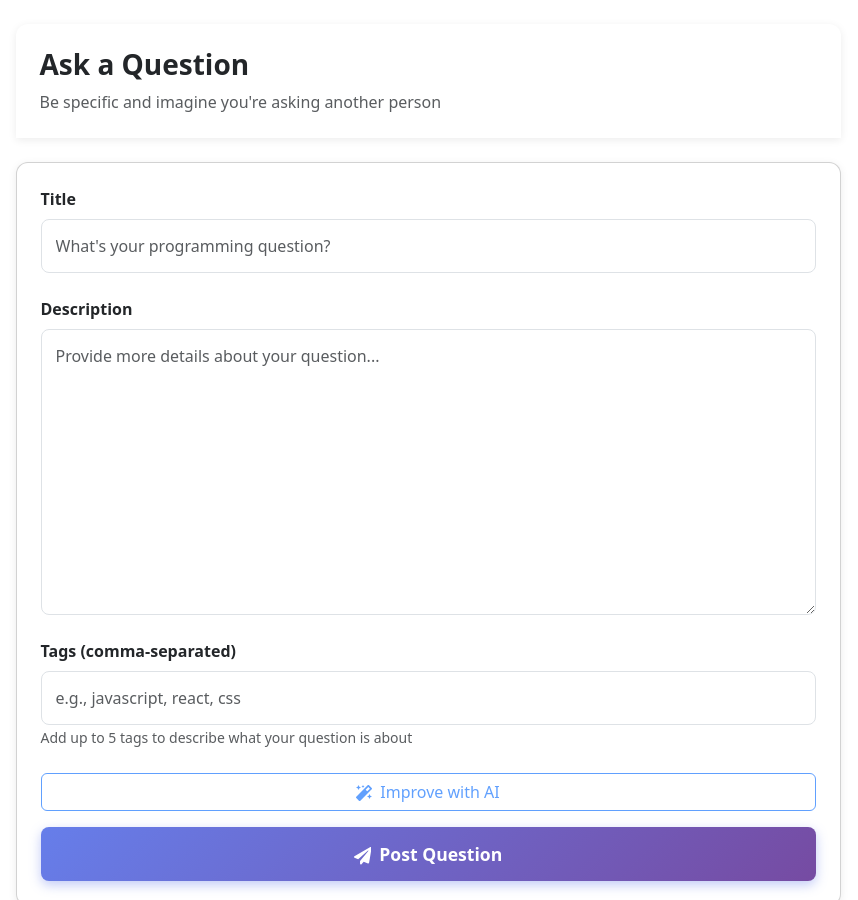
PostQuestion Page › AI question improver › shows an inline suggestion for each field
Type "my title" into the field with placeholder "What's your programming question?" at (428, 246), box x1=40 y1=219 x2=816 y2=273
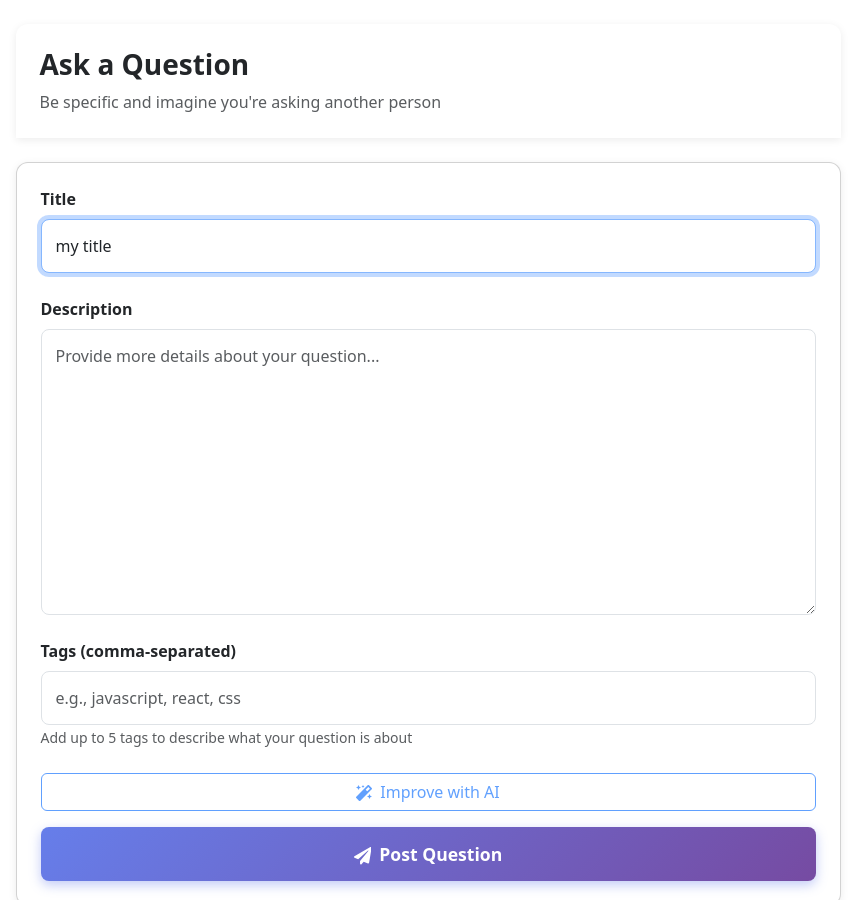
Type "my description" into the text box with placeholder "Provide more details about your question..." at (428, 472), box x1=40 y1=329 x2=816 y2=614
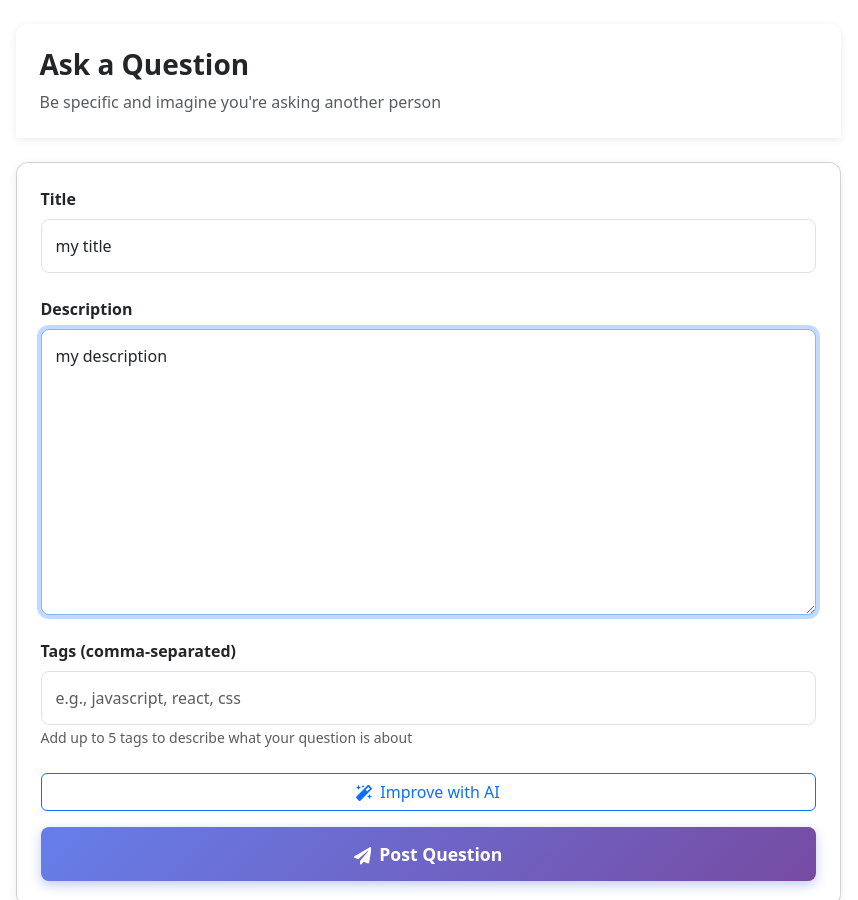
Type "js" into the field with placeholder "e.g., javascript, react, css" at (428, 698), box x1=40 y1=670 x2=816 y2=724
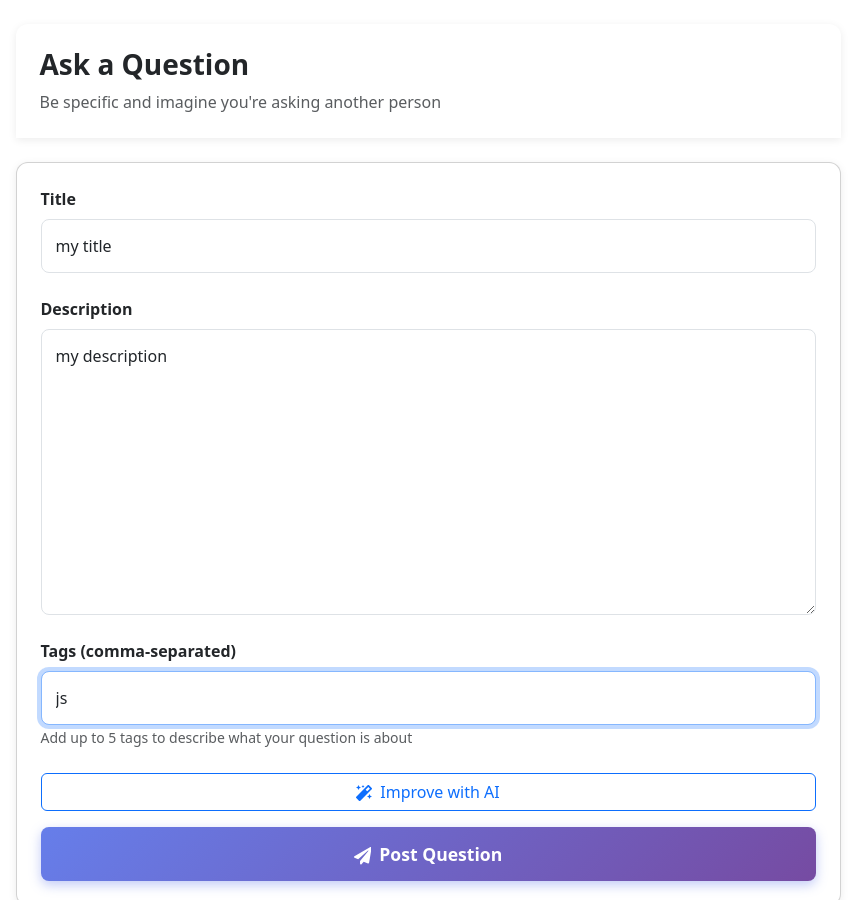
Click the button "Improve with AI" at (428, 792), box x1=40 y1=772 x2=816 y2=810
(page scrolled)
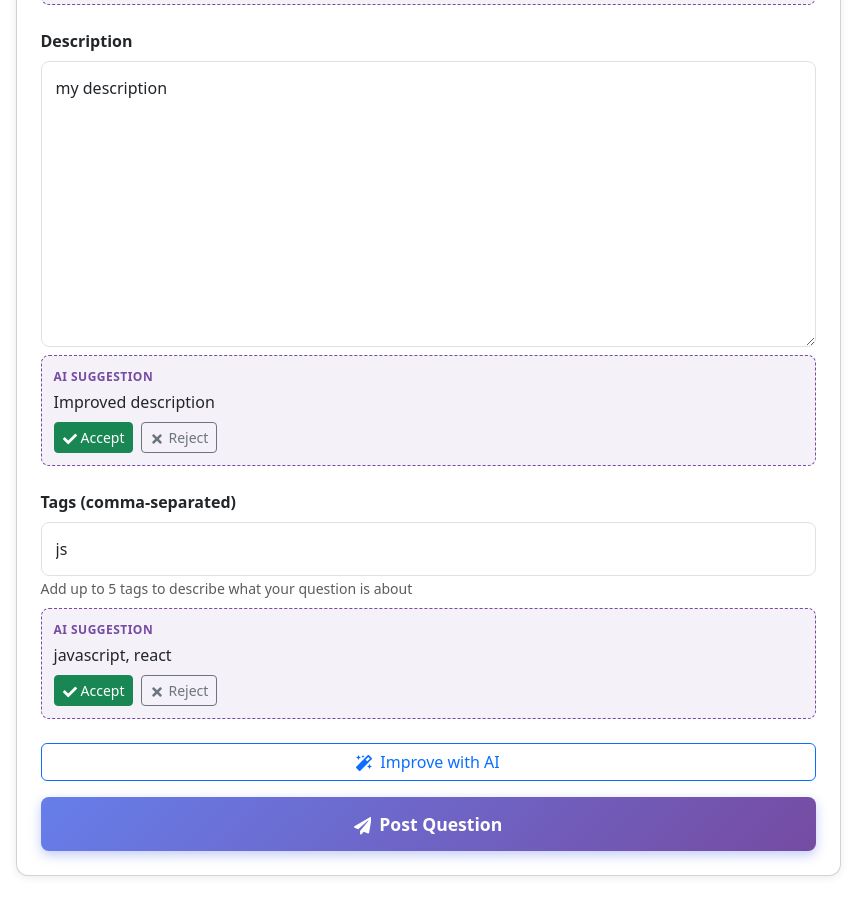
Now the text "Improved description" is shown, box x1=54 y1=390 x2=215 y2=412
Now the text "javascript, react" is shown, box x1=54 y1=644 x2=172 y2=666
